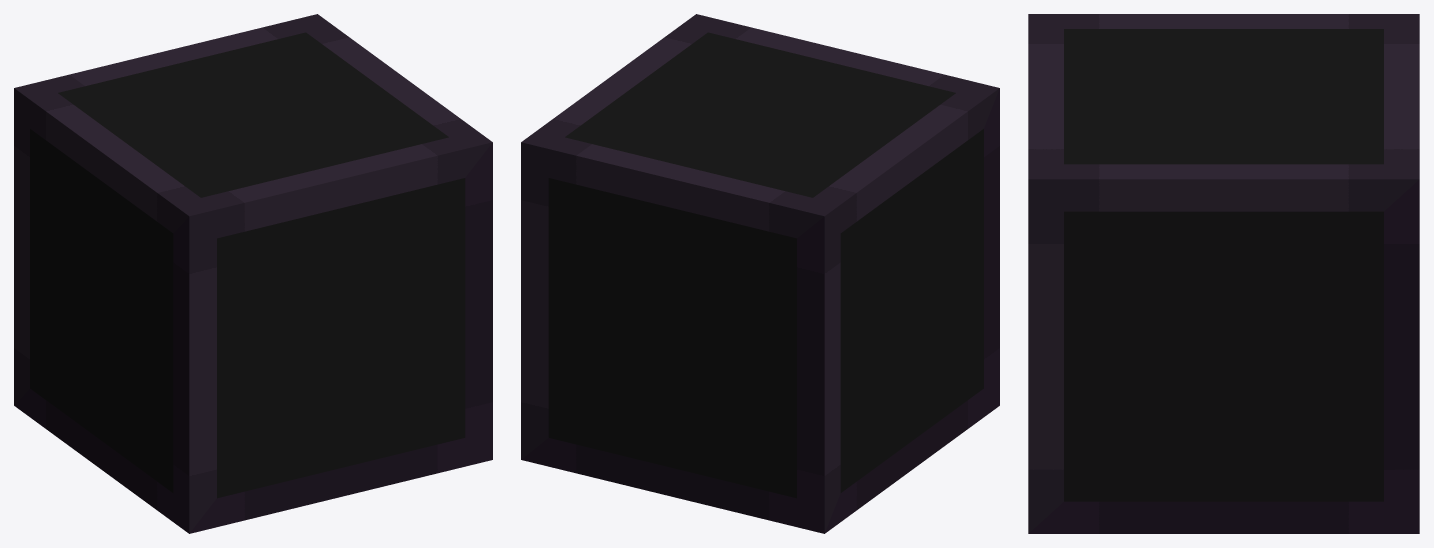
Rendered from terrarium_end_glass.obj.
3 renders of one model, left to right at view 1: azimuth 30°, elevation 25°; view 2: azimuth 150°, elevation 25°; view 3: azimuth 270°, elevation 25°, orthographic. The views are drawn at different scales.
Parts seen in each view (by area): view 1: TERRARIUM_GLASS_DARK_Cube.048; view 2: TERRARIUM_GLASS_DARK_Cube.048; view 3: TERRARIUM_GLASS_DARK_Cube.048.
Part boxes in pixels (left/top/right/bottom): TERRARIUM_GLASS_DARK_Cube.048: left=14, top=14, right=492, bottom=533; TERRARIUM_GLASS_DARK_Cube.048: left=521, top=14, right=999, bottom=533; TERRARIUM_GLASS_DARK_Cube.048: left=1028, top=14, right=1419, bottom=533.
Size of the model in its own units: 0.6875 by 0.6875 by 0.6875.
